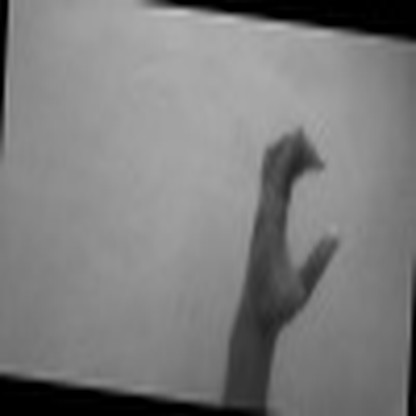c: (239, 118, 342, 325)
